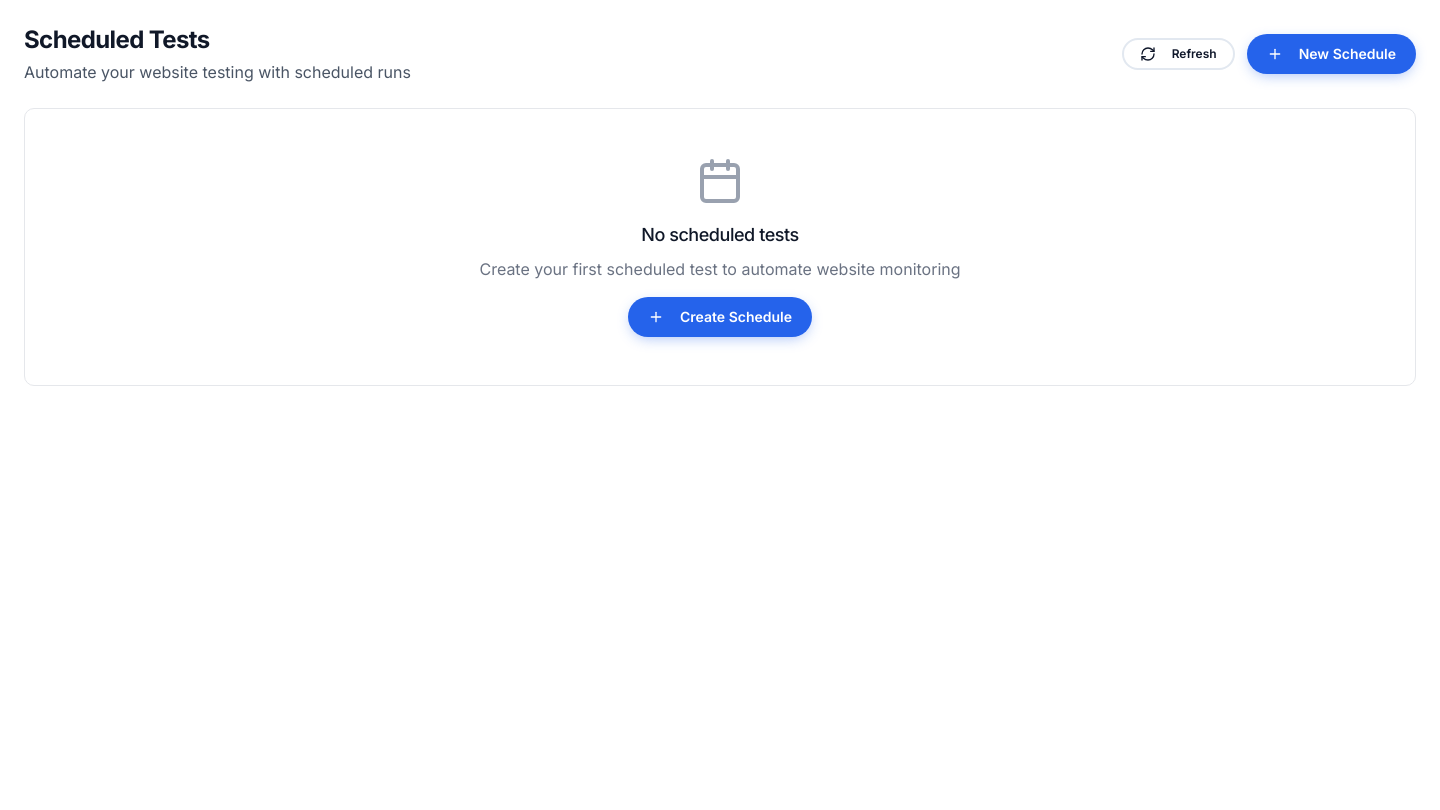
Scenario: ScheduledPage › should open create modal when clicking new schedule button
The width and height of the screenshot is (1440, 810).
Click the button "New Schedule": (1331, 54) x1=1247 y1=34 x2=1416 y2=74
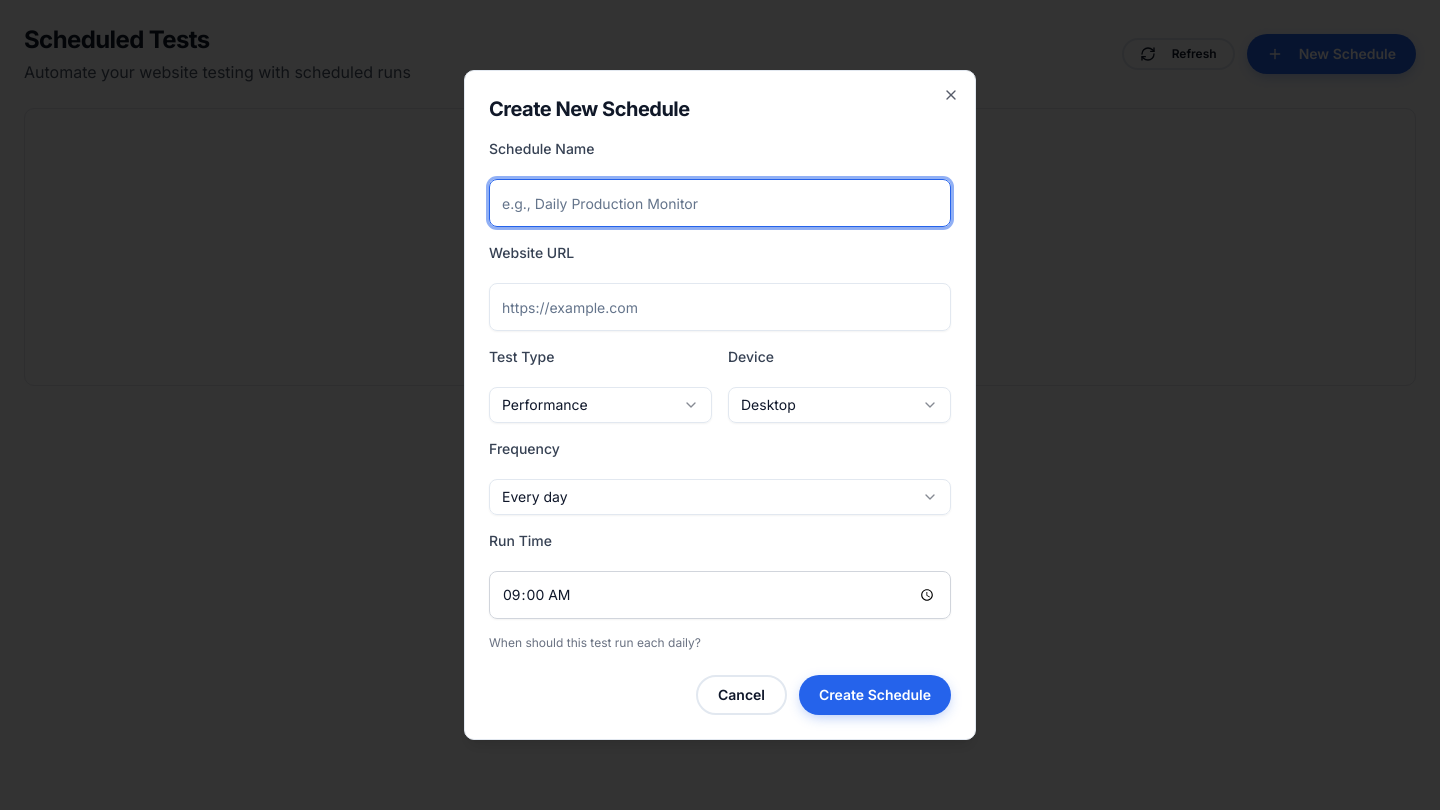
Check: the heading "Create New Schedule" is shown, box x1=489 y1=97 x2=690 y2=121
Check: the field labelled "Schedule Name" is shown, box x1=489 y1=179 x2=951 y2=227
Check: the field labelled "Website URL" is shown, box x1=489 y1=283 x2=951 y2=331
